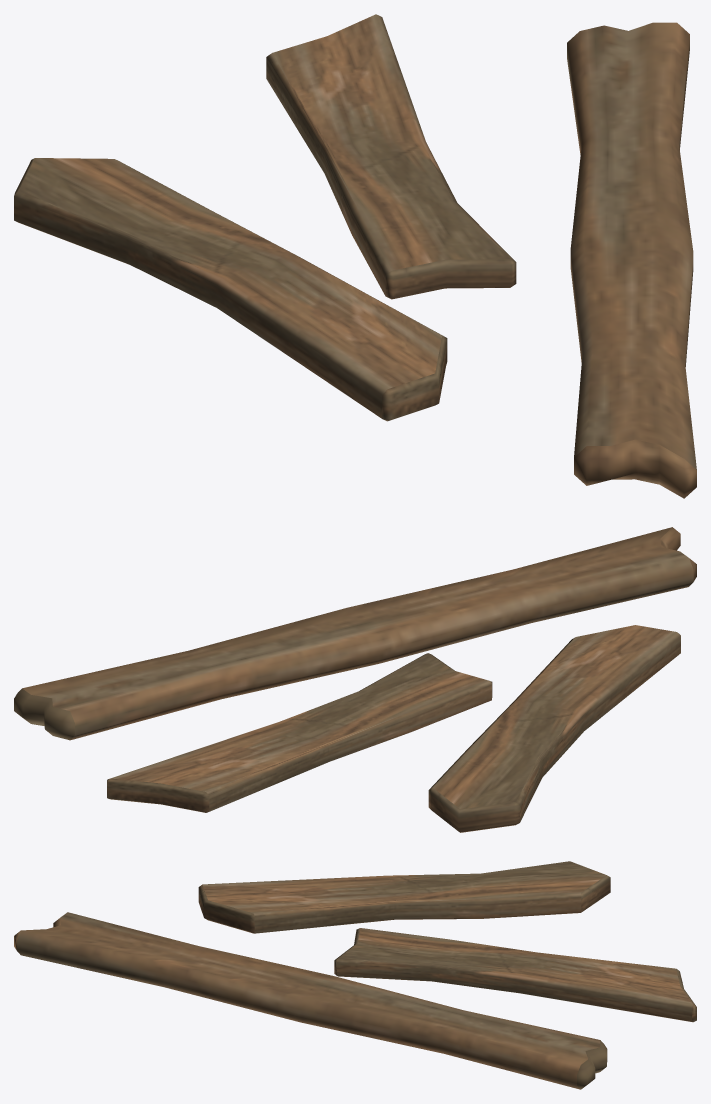
File: SM_Wood_Debris_03.fbx
3 views of the same model, one above another, from view 1: azimuth 30°, elevation 25°; view 2: azimuth 150°, elevation 25°; view 3: azimuth 270°, elevation 25° (orthographic). The views are drawn at different scales.
Visible parts, largest first — view 1: SM_Wood_Debris_03_LOD0; view 2: SM_Wood_Debris_03_LOD0; view 3: SM_Wood_Debris_03_LOD0.
Part boxes in pixels (x1=…): SM_Wood_Debris_03_LOD0: x1=14, y1=14, x2=696, y2=498; SM_Wood_Debris_03_LOD0: x1=14, y1=527, x2=696, y2=832; SM_Wood_Debris_03_LOD0: x1=14, y1=861, x2=696, y2=1089.
Size of the model in its own units: 128 by 178 by 8.25.
2 materials, 2 textured.
